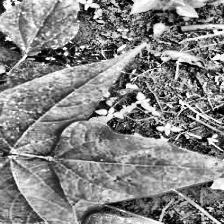ALS: (0, 42, 145, 151), (63, 126, 224, 201), (0, 154, 96, 224), (78, 213, 224, 224)
